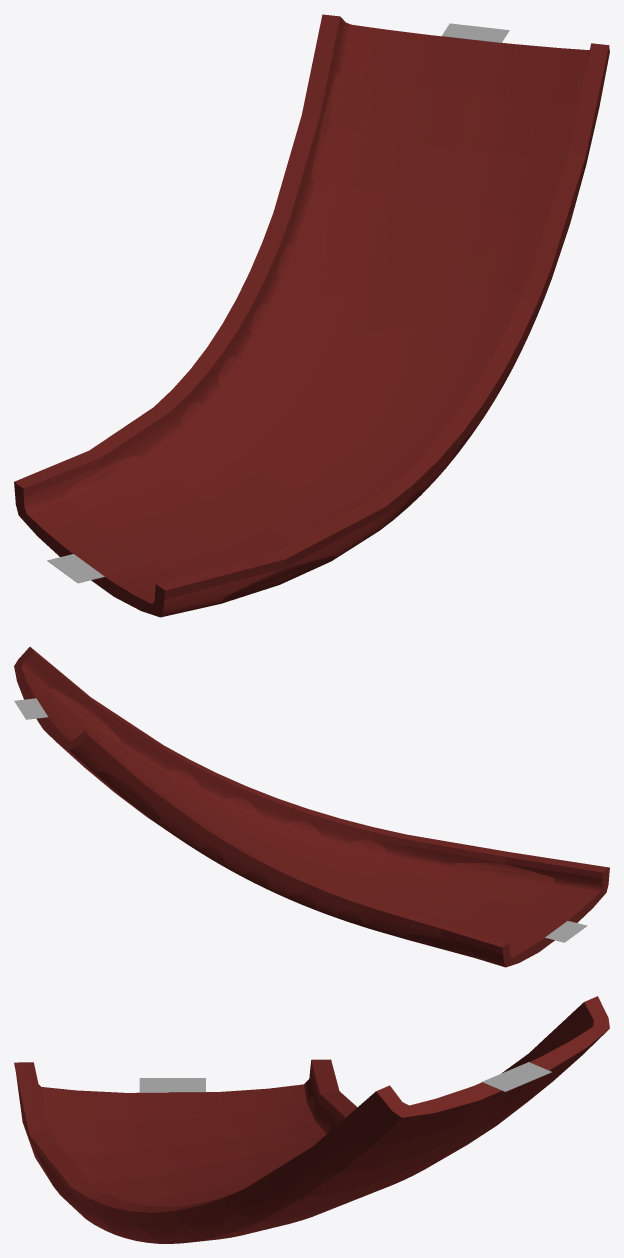
File: FlatConnector45UpLeft.fbx
3 renders of one model, top to bottom at view 1: azimuth 30°, elevation 25°; view 2: azimuth 150°, elevation 25°; view 3: azimuth 270°, elevation 25°, orthographic. The views are drawn at different scales.
Parts seen in each view (by area): view 1: pPipe3, pasted__pCube48, pasted__pCube3; view 2: pPipe3, pasted__pCube3, pasted__pCube48; view 3: pPipe3, pasted__pCube3, pasted__pCube48.
Part boxes in pixels (x1,y1,x2,y2): pPipe3: (14,14,609,617); pasted__pCube48: (442,23,509,42); pasted__pCube3: (47,554,104,583); pPipe3: (14,647,609,967); pasted__pCube3: (545,921,587,942); pasted__pCube48: (14,698,47,719); pPipe3: (14,996,609,1243); pasted__pCube3: (139,1078,205,1092); pasted__pCube48: (482,1062,551,1091).
Size of the model in its own units: 24.22 by 11.23 by 17.93.
